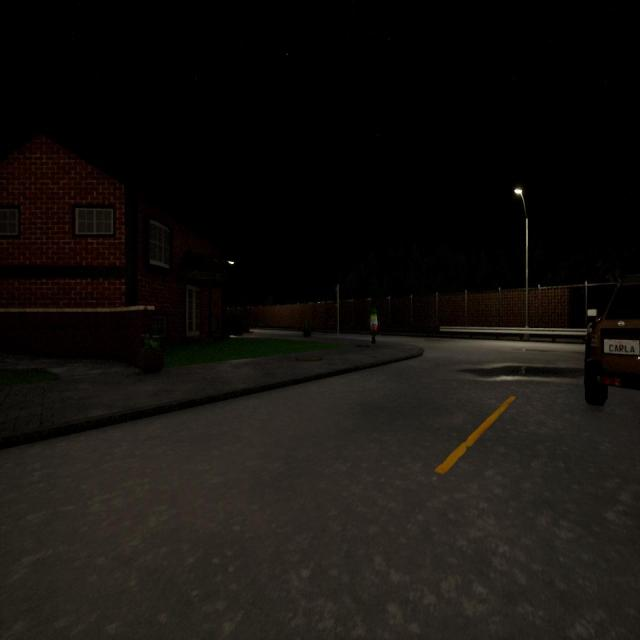Pedestrian: (370, 308, 378, 343)
Vehicle: (584, 283, 640, 405)
